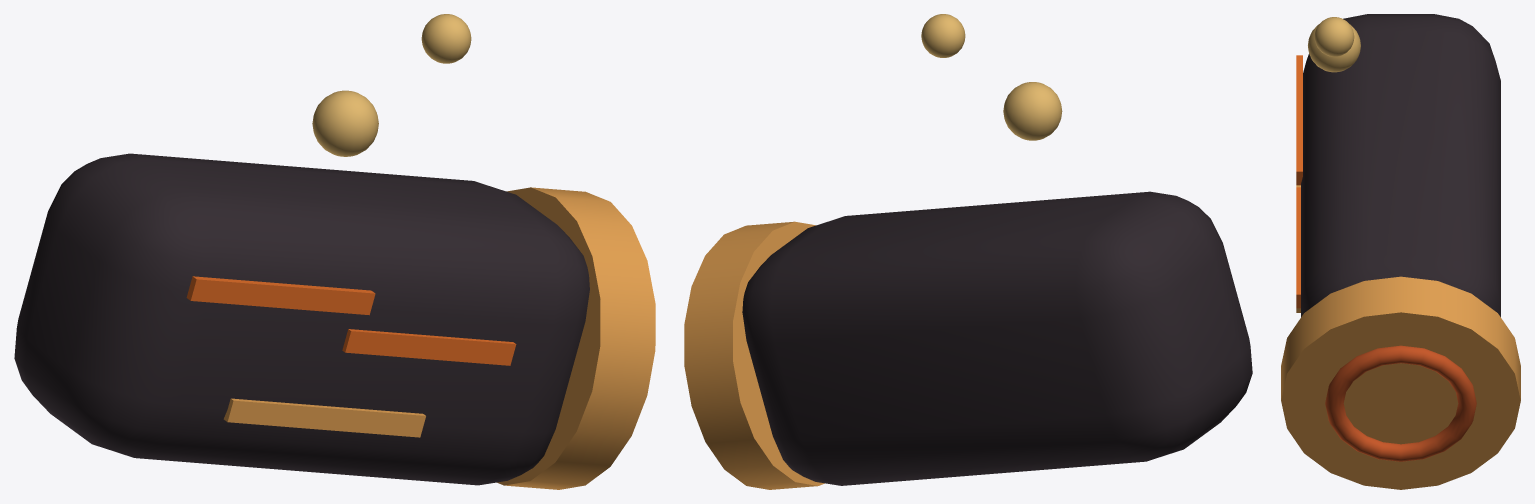
Rendered from mat_emberwood.glb.
3 renders of one model, left to right at view 1: azimuth 30°, elevation 25°; view 2: azimuth 150°, elevation 25°; view 3: azimuth 270°, elevation 25°, orthographic. The views are drawn at different scales.
Visible parts, largest first — view 1: _box; view 2: _box; view 3: _box.
Part boxes in pixels (box(x1,y1,x2,y2)): _box: box(14, 14, 655, 489); _box: box(684, 14, 1252, 489); _box: box(1281, 14, 1520, 489).
Bounding box in the file's own units: 0.7849 × 0.6972 × 0.36.
